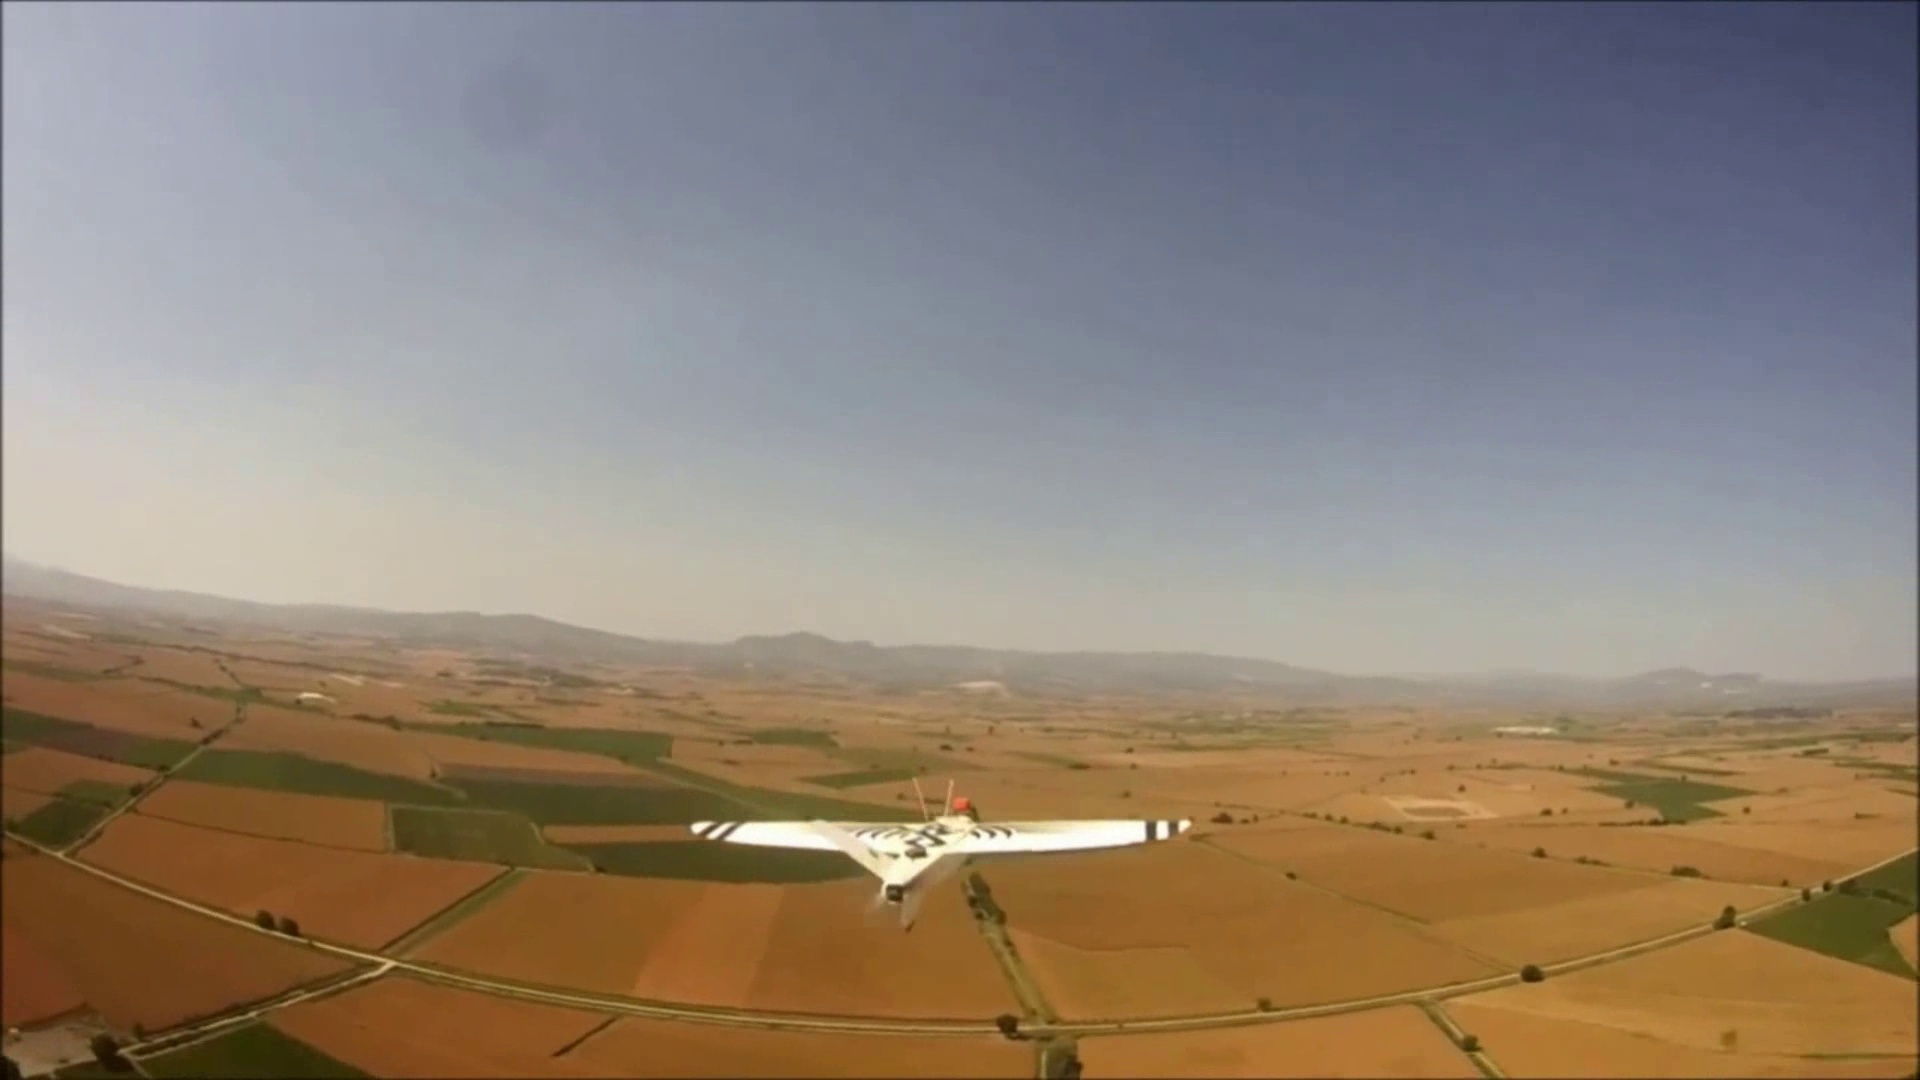airplane: (681, 748, 1188, 921)
